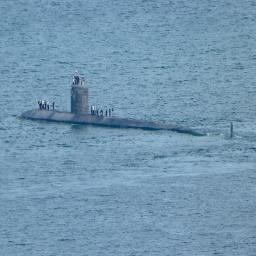submarine: (18, 85, 235, 139)
